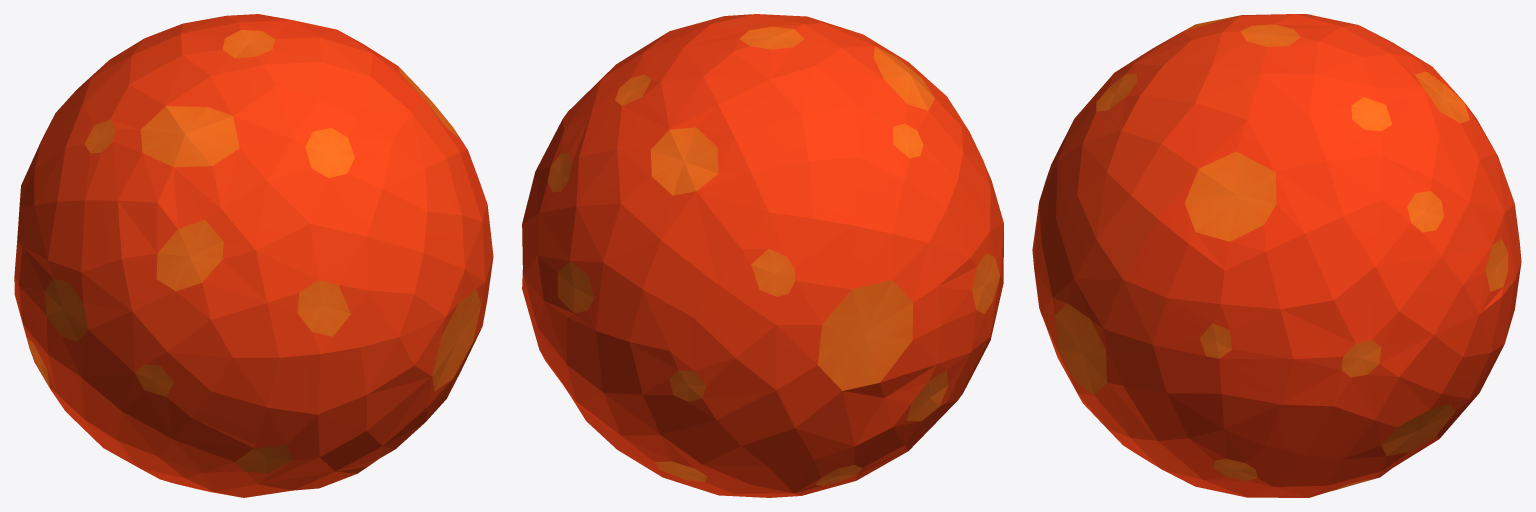
File: mars.glb
3 views of the same model, side by side, from view 1: azimuth 30°, elevation 25°; view 2: azimuth 150°, elevation 25°; view 3: azimuth 270°, elevation 25° (orthographic).
Parts seen in each view (by area): view 1: huitugou_2145_03; view 2: huitugou_2145_03; view 3: huitugou_2145_03.
Part boxes in pixels (x1=…): huitugou_2145_03: x1=14, y1=14, x2=493, y2=497; huitugou_2145_03: x1=522, y1=14, x2=1003, y2=497; huitugou_2145_03: x1=1032, y1=14, x2=1521, y2=497.
Bounding box in the file's own units: 1.11 × 1.1 × 1.12.
Materials: 1 (1 with a texture image).
